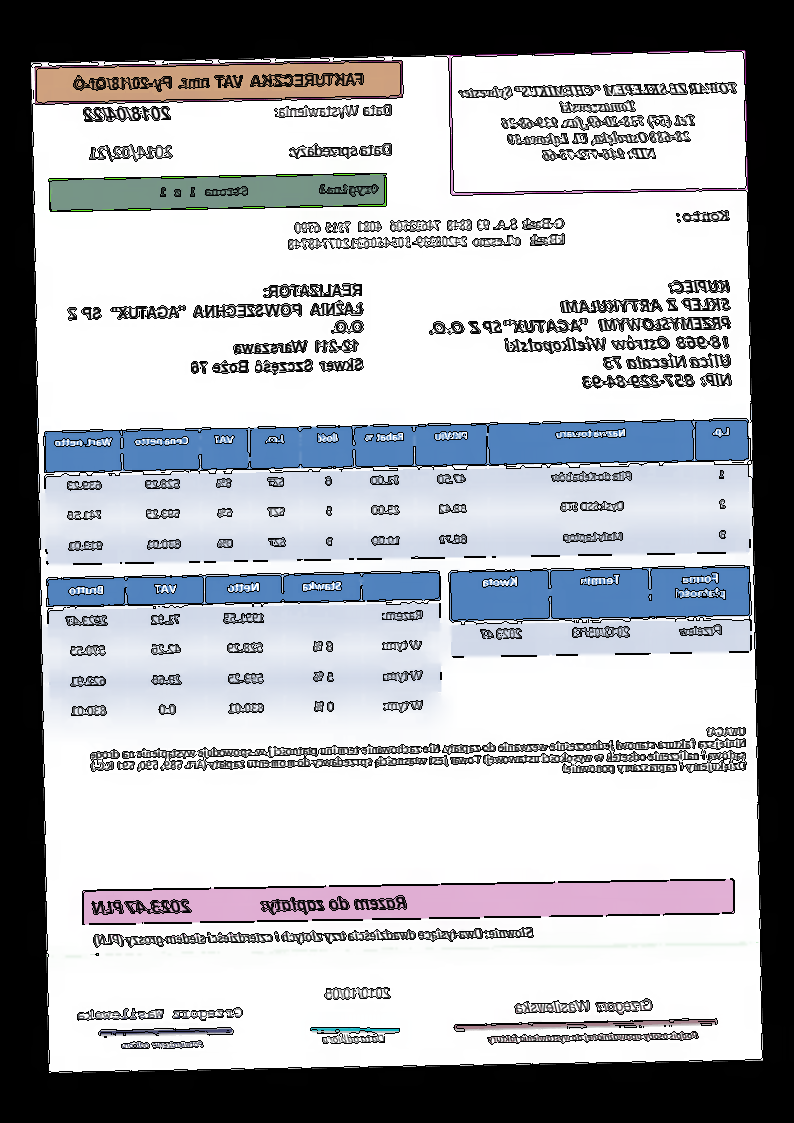Table: (43, 418, 752, 565), (45, 569, 444, 729), (449, 566, 752, 658)
TextBox: (88, 722, 749, 786), (425, 276, 736, 395), (65, 280, 367, 380), (457, 77, 741, 167), (87, 921, 537, 951), (286, 213, 570, 255), (89, 888, 412, 921), (73, 68, 369, 92), (158, 179, 380, 202), (484, 1026, 702, 1046), (75, 1003, 247, 1024), (513, 992, 656, 1017), (273, 100, 394, 121), (287, 139, 394, 162), (81, 101, 176, 126), (85, 141, 176, 165), (118, 1035, 207, 1054), (323, 982, 395, 1003), (675, 206, 733, 225), (320, 1029, 387, 1045)
